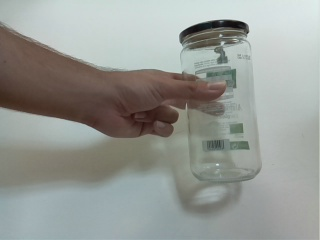pote cristal: (175, 18, 267, 186)
